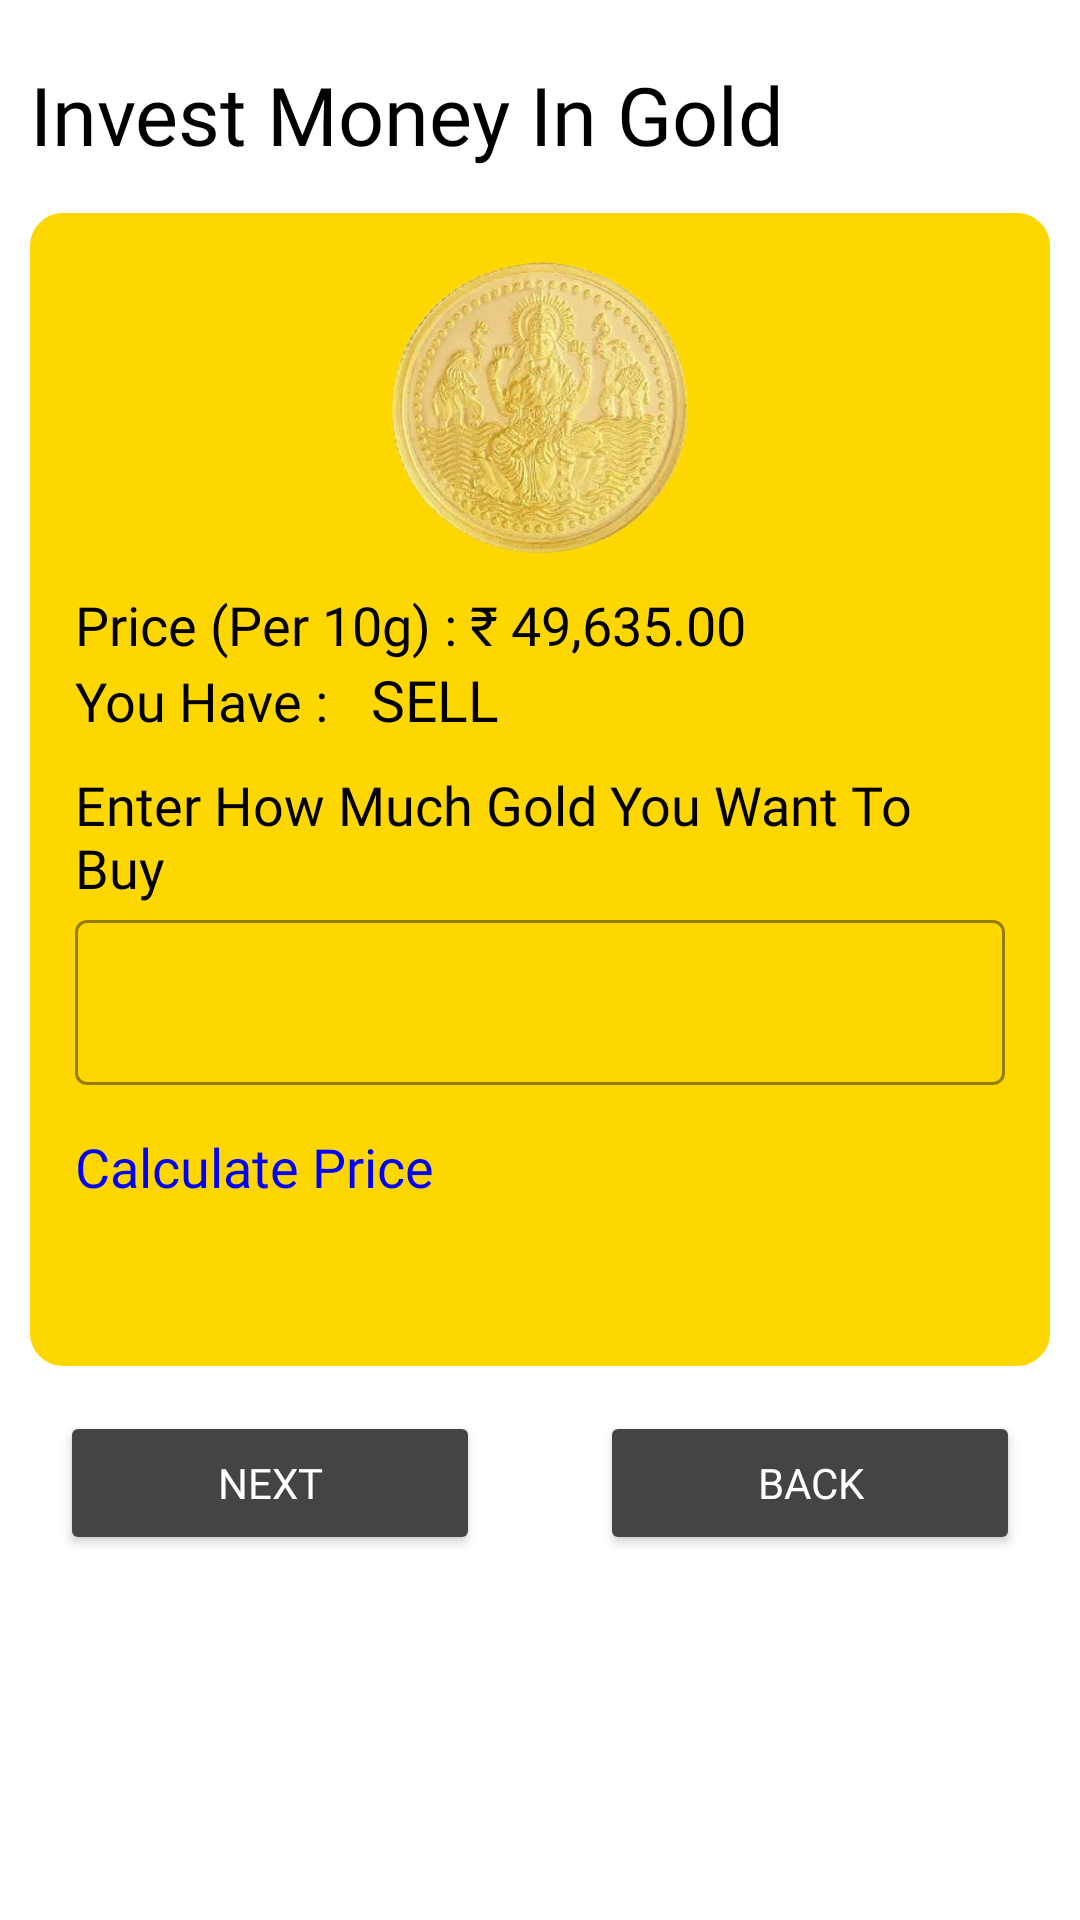

Where to tap for icons on this 1080 × 1920 app screen, as [x,y]:
gold coin: [540,407]
